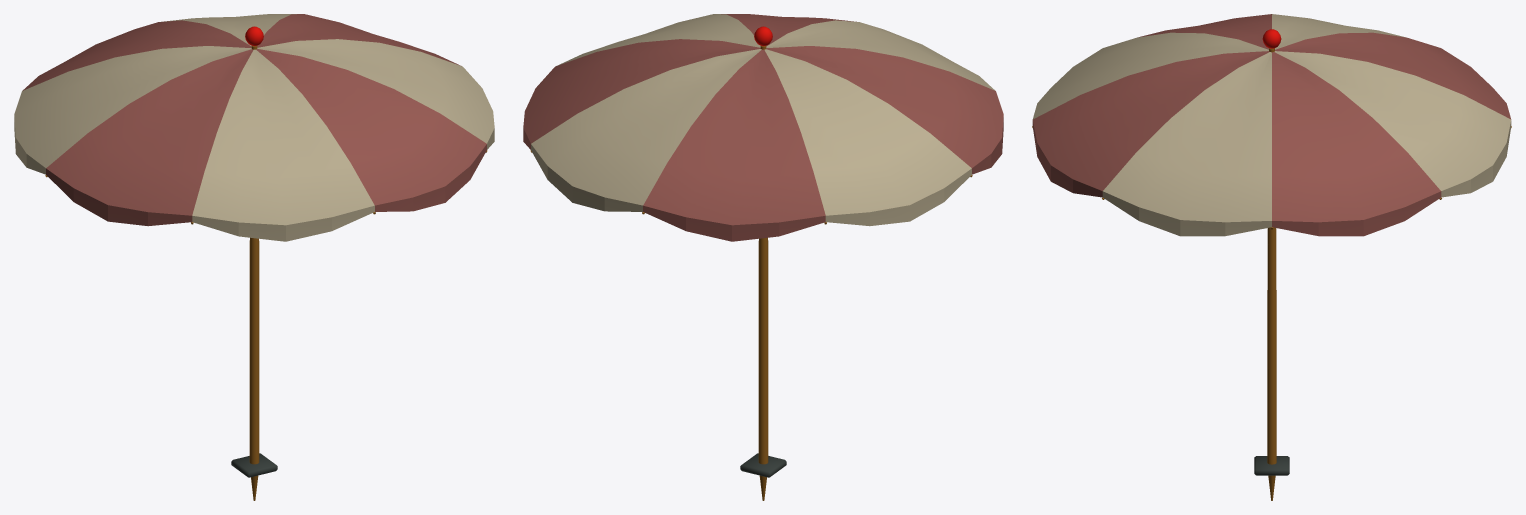
The model's file is beach-umbrella.glb.
3 renders of one model, left to right at view 1: azimuth 30°, elevation 25°; view 2: azimuth 150°, elevation 25°; view 3: azimuth 270°, elevation 25°, orthographic.
Parts seen in each view (by area): view 1: canopy, pole, spike; view 2: canopy, pole, spike; view 3: canopy, pole, spike.
Part boxes in pixels (x1=…): canopy: x1=14, y1=14, x2=494, y2=241; pole: x1=249, y1=237, x2=259, y2=464; spike: x1=231, y1=453, x2=277, y2=500; canopy: x1=523, y1=14, x2=1003, y2=241; pole: x1=758, y1=237, x2=768, y2=464; spike: x1=740, y1=453, x2=786, y2=500; canopy: x1=1032, y1=14, x2=1511, y2=236; pole: x1=1267, y1=227, x2=1276, y2=464; spike: x1=1254, y1=456, x2=1289, y2=500.
Size of the model in its own units: 1.64 by 1.78 by 1.64.
